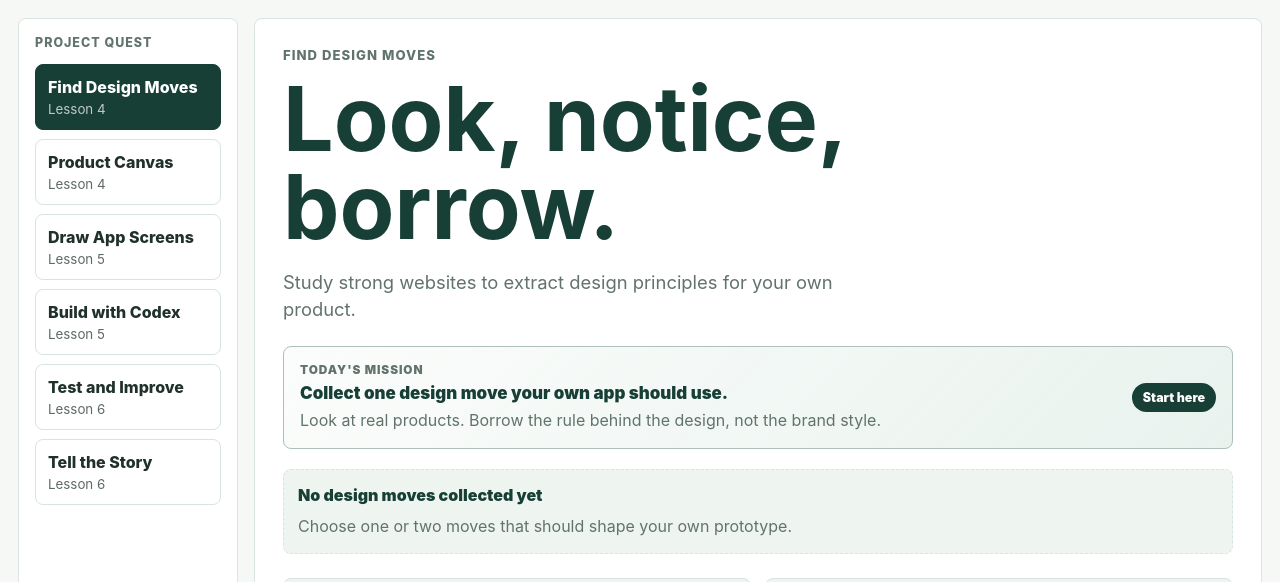
App › starts Product Canvas with a focused mission picker
Click the button "Product Canvas Lesson 4": (128, 172) [35,139,221,205]
(page scrolled)
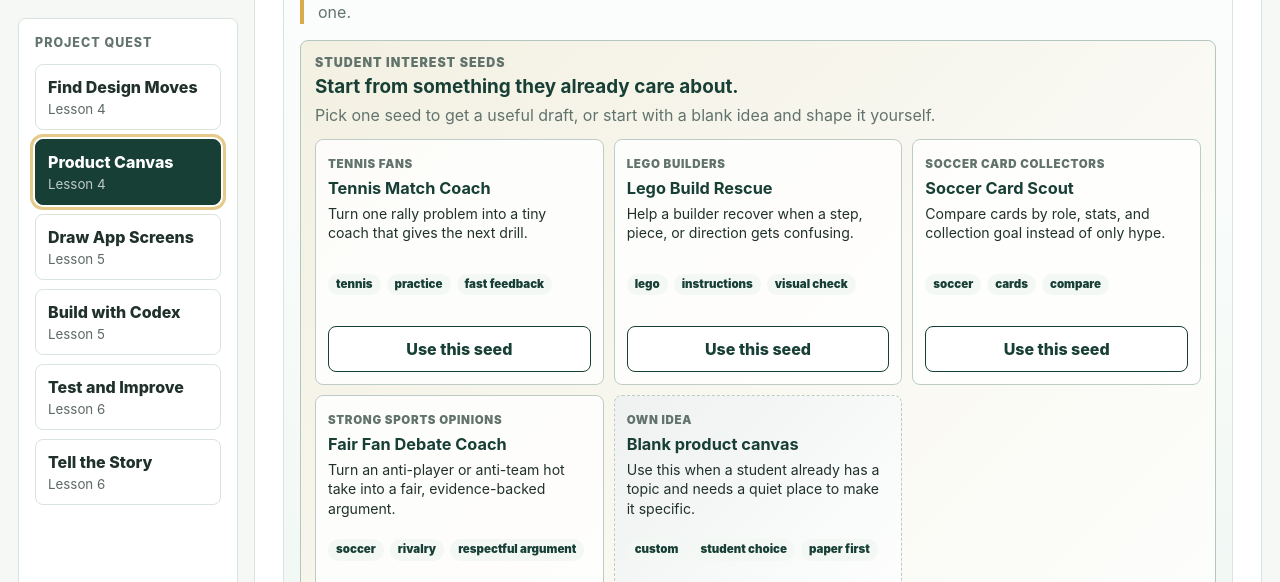
Expected: the heading "Tennis Match Coach" is shown, [328,178,491,198]
Expected: the heading "Fair Fan Debate Coach" is shown, [328,434,507,454]
